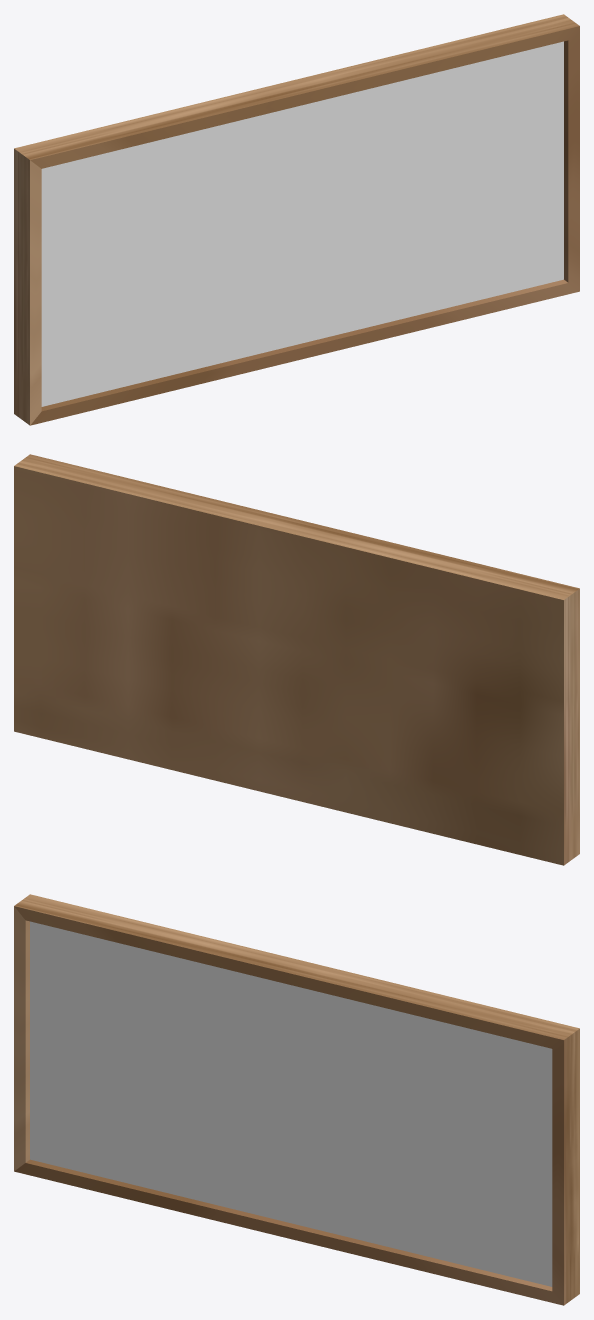
The model's file is Corkboard.glb.
3 views of the same model, one above another, from view 1: azimuth 30°, elevation 25°; view 2: azimuth 150°, elevation 25°; view 3: azimuth 330°, elevation 25° (orthographic).
Parts seen in each view (by area): view 1: Cube.008; view 2: Cube.008; view 3: Cube.008.
Boxes of the visible parts, x1,y1,x2,y2 form: Cube.008: (14, 14, 579, 425); Cube.008: (14, 454, 579, 865); Cube.008: (14, 894, 579, 1305).
Bounding box in the file's own units: 7.32 × 3.38 × 0.3718.
2 materials, 1 textured.
